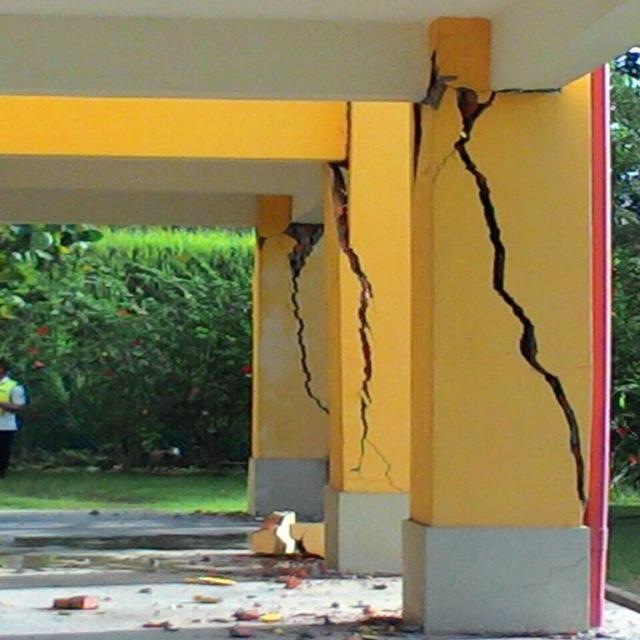damage: (407, 61, 621, 548), (292, 149, 410, 497), (31, 558, 448, 640), (234, 198, 339, 450)
